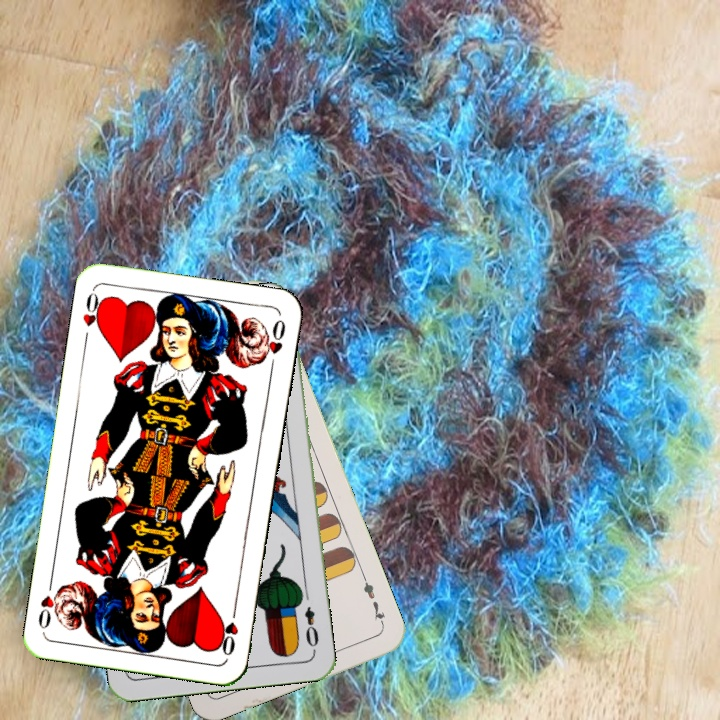E7: (358, 572, 388, 629)
EO: (300, 602, 322, 650)
HO: (78, 286, 108, 334), (217, 601, 241, 659)
